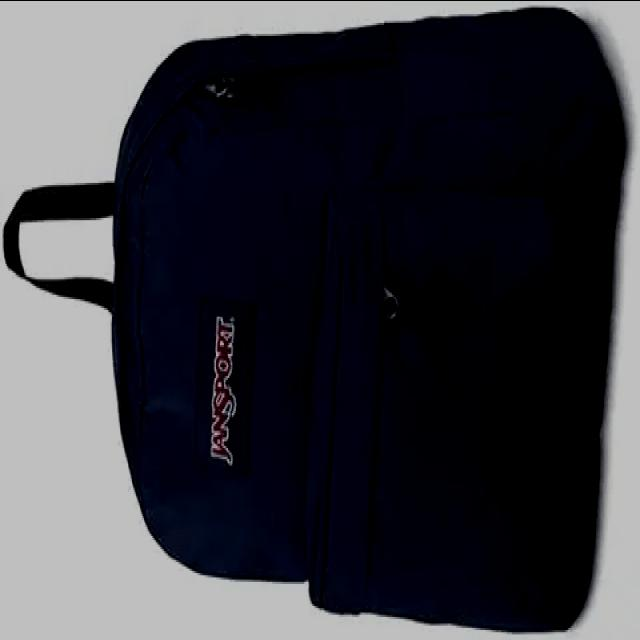backpack: (1, 1, 636, 640)
